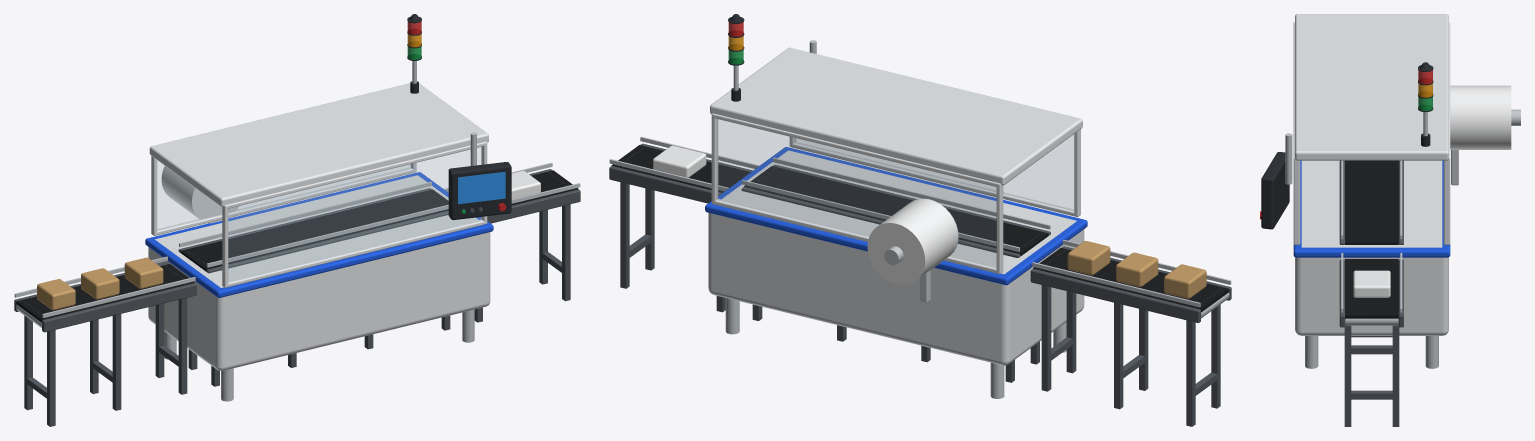
The model's file is packaging-machine.glb.
3 views of the same model, side by side, from view 1: azimuth 30°, elevation 25°; view 2: azimuth 150°, elevation 25°; view 3: azimuth 270°, elevation 25° (orthographic). The views are drawn at different scales.
Parts seen in each view (by area): view 1: packaging_machine_paint_white, packaging_machine_glass, packaging_machine_dark_steel, packaging_machine_rubber, packaging_machine_steel, packaging_machine_accent_blue, packaging_machine_product, packaging_machine_graphite, packaging_machine_label, packaging_machine_screen; view 2: packaging_machine_paint_white, packaging_machine_glass, packaging_machine_dark_steel, packaging_machine_rubber, packaging_machine_steel, packaging_machine_label, packaging_machine_accent_blue, packaging_machine_product; view 3: packaging_machine_paint_white, packaging_machine_rubber, packaging_machine_label, packaging_machine_dark_steel, packaging_machine_steel, packaging_machine_accent_blue, packaging_machine_graphite.
Part boxes in pixels (left/top/right/bottom): packaging_machine_paint_white: left=148, top=83, right=490, bottom=370; packaging_machine_glass: left=157, top=147, right=482, bottom=281; packaging_machine_dark_steel: left=14, top=169, right=580, bottom=426; packaging_machine_rubber: left=16, top=170, right=578, bottom=322; packaging_machine_steel: left=14, top=61, right=580, bottom=401; packaging_machine_accent_blue: left=145, top=172, right=493, bottom=297; packaging_machine_product: left=37, top=257, right=163, bottom=310; packaging_machine_graphite: left=407, top=14, right=511, bottom=220; packaging_machine_label: left=161, top=166, right=540, bottom=223; packaging_machine_screen: left=458, top=171, right=505, bottom=204; packaging_machine_paint_white: left=708, top=47, right=1084, bottom=365; packaging_machine_glass: left=717, top=119, right=1073, bottom=267; packaging_machine_dark_steel: left=609, top=143, right=1231, bottom=426; packaging_machine_rubber: left=611, top=145, right=1229, bottom=312; packaging_machine_steel: left=609, top=40, right=1231, bottom=398; packaging_machine_label: left=653, top=145, right=958, bottom=284; packaging_machine_accent_blue: left=705, top=147, right=1087, bottom=285; packaging_machine_product: left=1067, top=241, right=1206, bottom=298; packaging_machine_paint_white: left=1293, top=14, right=1450, bottom=335; packaging_machine_rubber: left=1345, top=160, right=1398, bottom=318; packaging_machine_label: left=1353, top=85, right=1511, bottom=297; packaging_machine_dark_steel: left=1339, top=160, right=1403, bottom=426; packaging_machine_steel: left=1285, top=109, right=1520, bottom=368; packaging_machine_accent_blue: left=1293, top=160, right=1450, bottom=257; packaging_machine_graphite: left=1261, top=62, right=1433, bottom=229.
Bounding box in the file's own units: 4.9 × 2.49 × 1.94.
